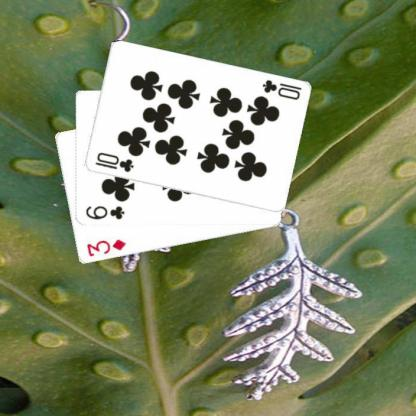10C: (260, 76, 302, 102), (92, 150, 135, 174)
3D: (84, 237, 127, 258)
6C: (83, 203, 125, 221)
